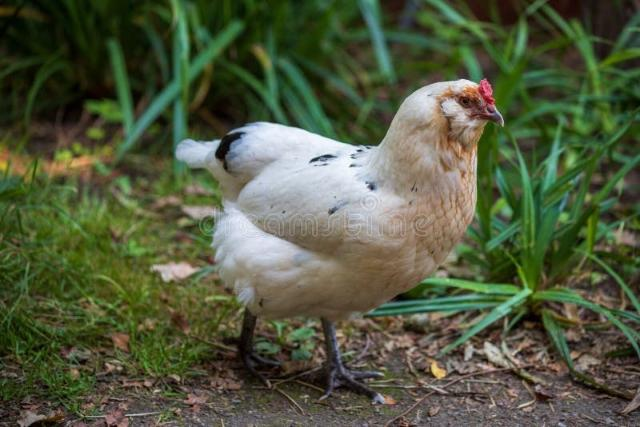Chicken: (175, 78, 503, 403)
